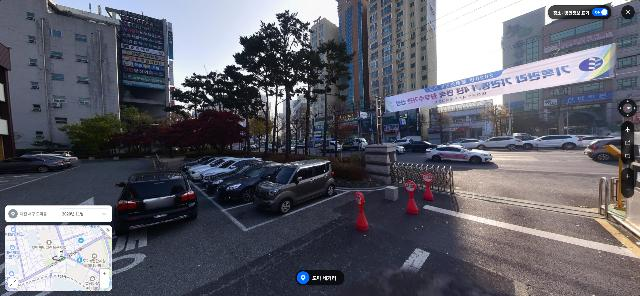other: (227, 9, 330, 159), (225, 35, 287, 156), (174, 72, 259, 154), (300, 23, 346, 158), (207, 68, 268, 154), (160, 109, 249, 156), (60, 111, 121, 156), (321, 85, 357, 159), (118, 104, 163, 156), (330, 103, 363, 160), (541, 91, 579, 135), (115, 122, 163, 156), (477, 98, 513, 137), (281, 98, 301, 152), (248, 115, 276, 152), (427, 111, 455, 144)
